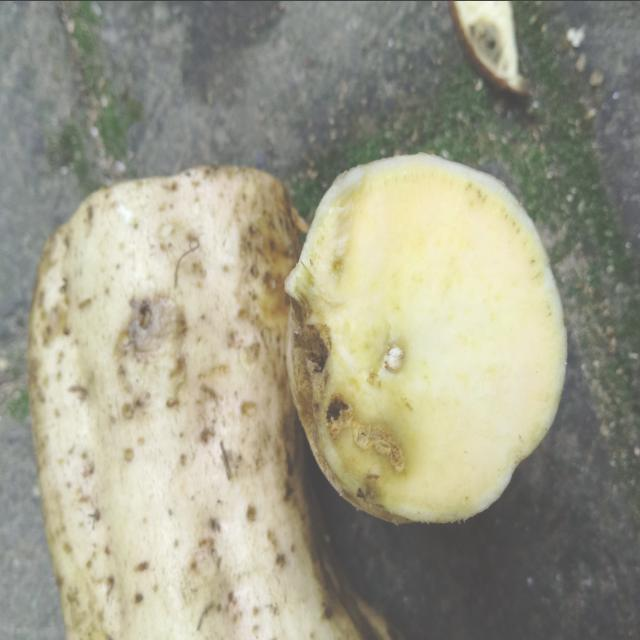Sick Sweet Potato_Tuber Rot: (285, 153, 566, 522)
